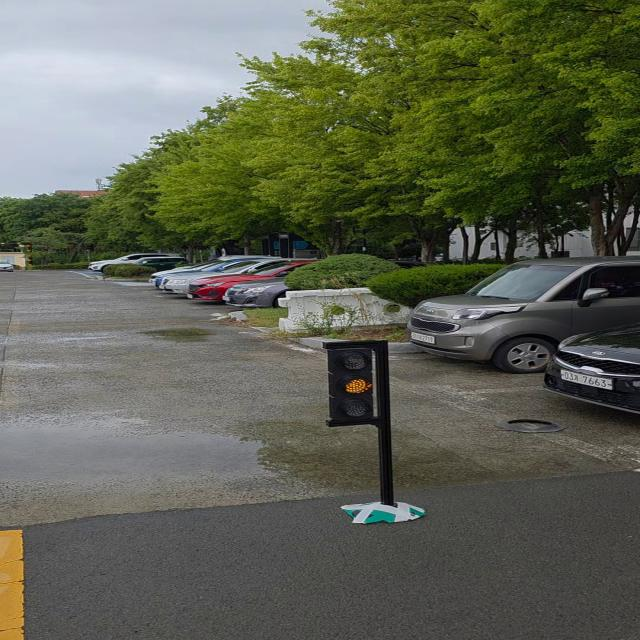yellow: (326, 343, 385, 427)
